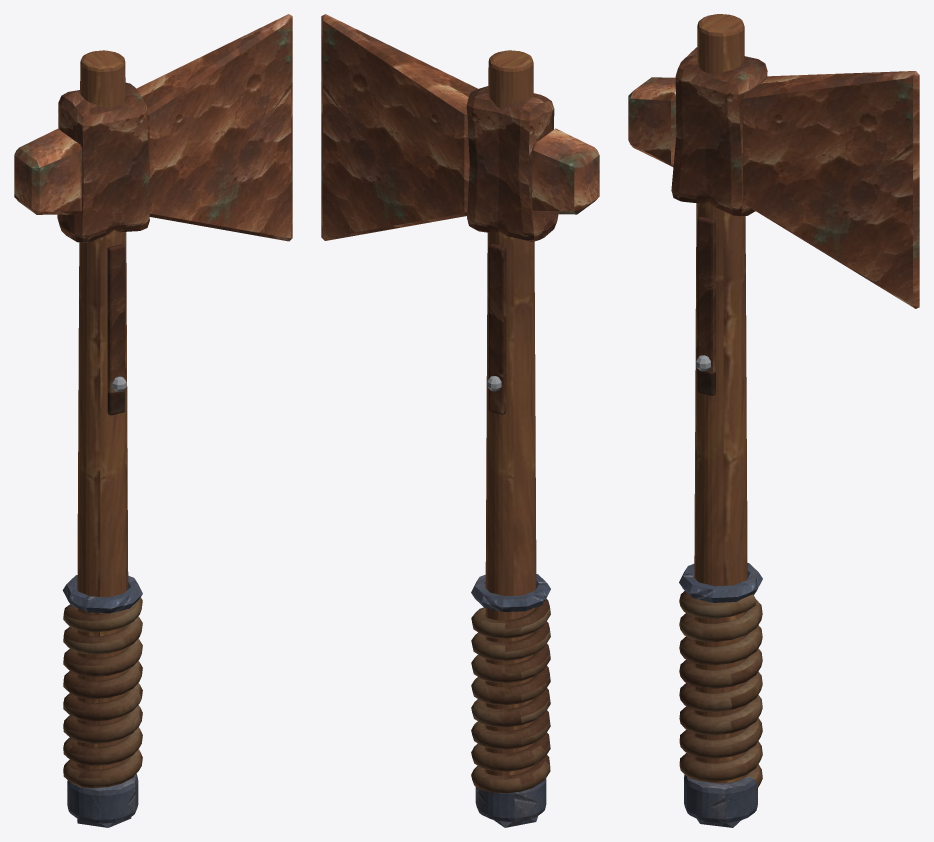
Rendered from axe_copper.glb.
The picture shows the model from 3 angles, left to right: view 1: azimuth 30°, elevation 25°; view 2: azimuth 150°, elevation 25°; view 3: azimuth 330°, elevation 25°; orthographic projection. The views are drawn at different scales.
Parts seen in each view (by area): view 1: model; view 2: model; view 3: model.
Part boxes in pixels (x1=…): model: x1=14, y1=14, x2=292, y2=827; model: x1=321, y1=14, x2=599, y2=827; model: x1=628, y1=14, x2=919, y2=827.
Size of the model in its own units: 0.27 by 0.7306 by 0.0701.
9 materials, 8 textured.
